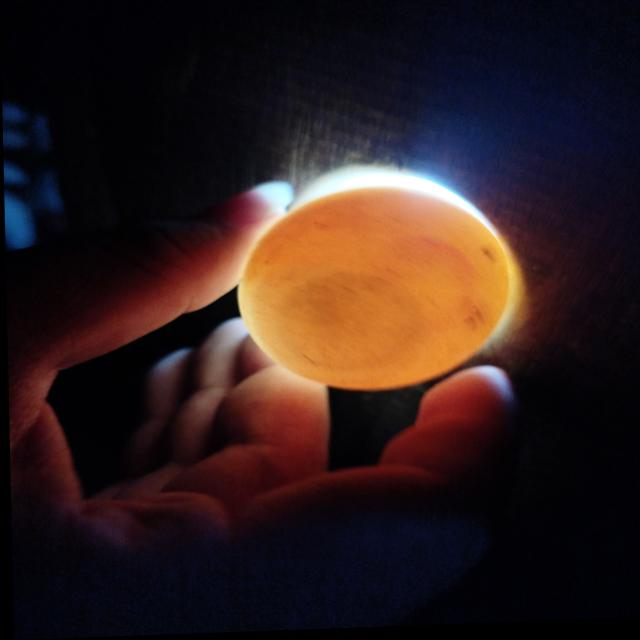Camara de Ar: (282, 279, 416, 369)
